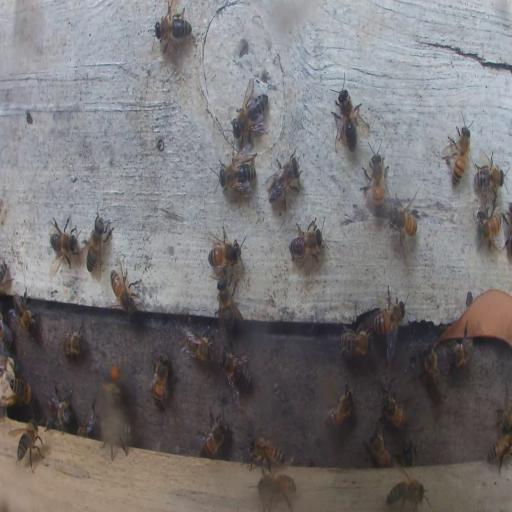bee: (232, 82, 269, 146), (333, 78, 362, 154), (266, 153, 302, 208), (84, 208, 112, 277), (385, 194, 419, 248), (154, 4, 192, 52), (48, 214, 81, 269), (207, 225, 243, 273), (362, 146, 387, 214), (289, 218, 324, 263), (14, 418, 43, 472), (110, 266, 140, 318), (217, 152, 256, 192), (324, 382, 355, 432), (373, 294, 406, 340), (449, 121, 471, 189), (473, 150, 505, 196), (246, 435, 285, 472), (182, 320, 214, 364), (386, 476, 428, 509), (259, 473, 297, 509), (197, 415, 226, 459), (217, 277, 241, 330), (486, 427, 512, 475), (44, 388, 73, 431), (422, 343, 445, 396), (218, 350, 250, 387), (366, 424, 392, 468), (380, 391, 408, 431), (98, 358, 122, 404), (11, 290, 37, 332), (477, 207, 504, 246), (150, 352, 169, 407), (339, 328, 373, 358), (445, 330, 473, 366), (62, 325, 85, 360), (77, 402, 99, 437), (497, 380, 511, 432), (7, 374, 31, 404), (101, 432, 130, 456), (0, 313, 15, 350), (402, 441, 417, 468), (0, 260, 10, 294)
